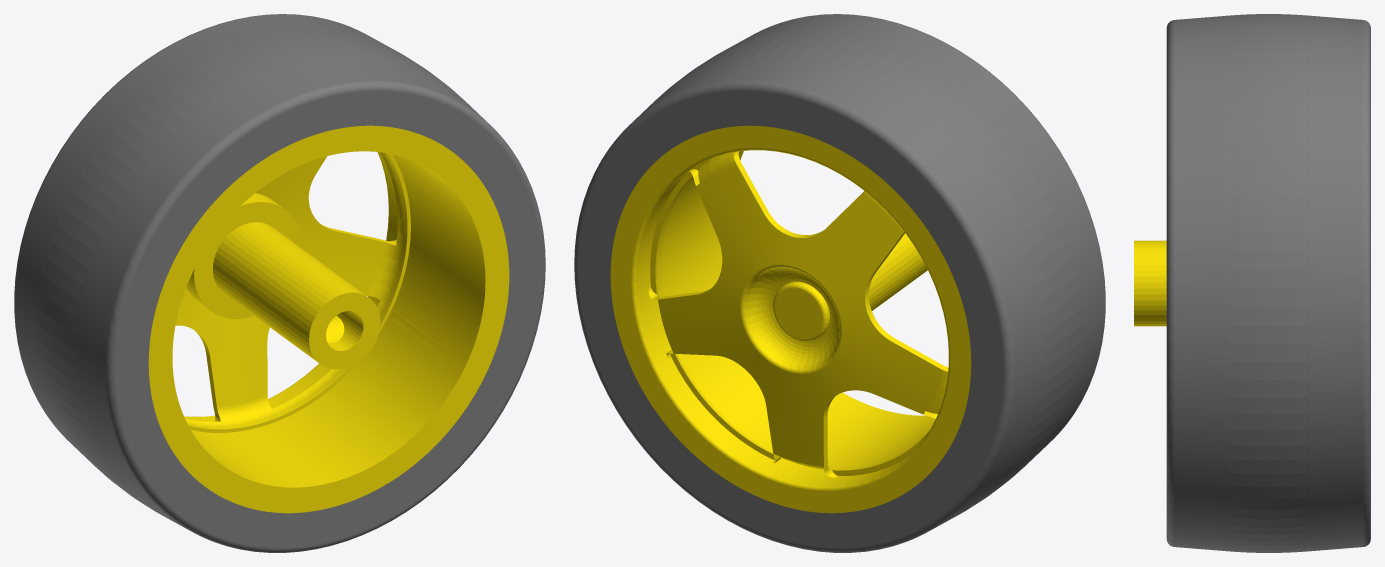
Rendered from left_wheel.dae.
The picture shows the model from 3 angles, left to right: view 1: azimuth 30°, elevation 25°; view 2: azimuth 150°, elevation 25°; view 3: azimuth 270°, elevation 25°; orthographic projection. The views are drawn at different scales.
Visible parts, largest first — view 1: left_wheel_rubber, left_wheel; view 2: left_wheel_rubber, left_wheel; view 3: left_wheel_rubber, left_wheel.
Part boxes in pixels (x1,y1,x2,y2): left_wheel_rubber: (14, 14, 545, 552); left_wheel: (148, 125, 509, 513); left_wheel_rubber: (574, 14, 1105, 552); left_wheel: (610, 125, 971, 513); left_wheel_rubber: (1166, 14, 1370, 552); left_wheel: (1134, 240, 1166, 326).
Size of the model in its own units: 0.066 by 0.029 by 0.066.
